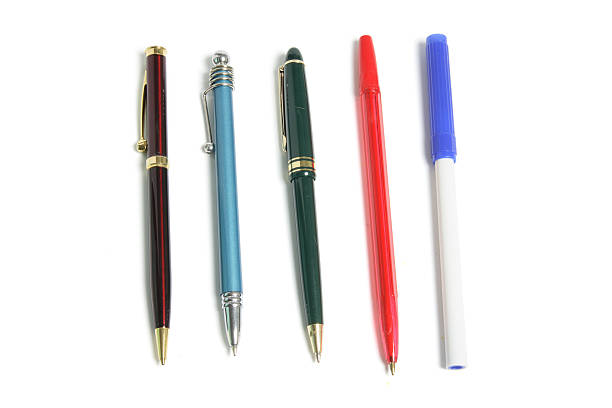pen: (271, 28, 340, 371), (349, 16, 411, 383), (197, 25, 261, 367), (129, 39, 192, 373)
